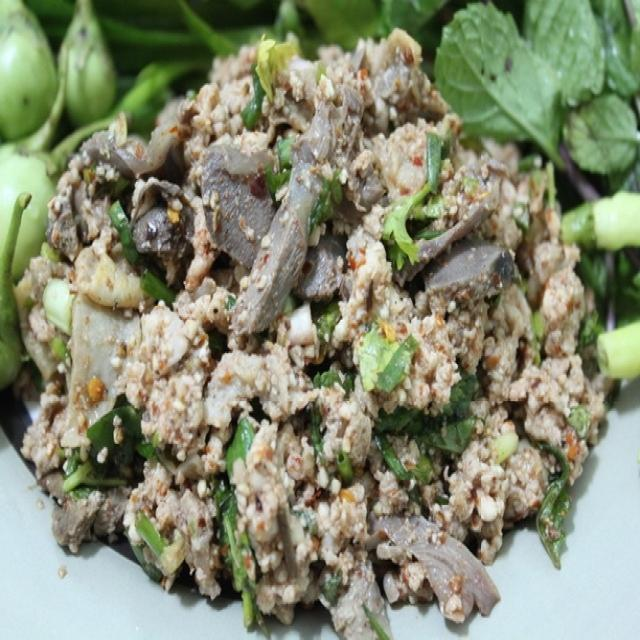鸡肉料理 含炸鸡: (13, 27, 592, 621)
